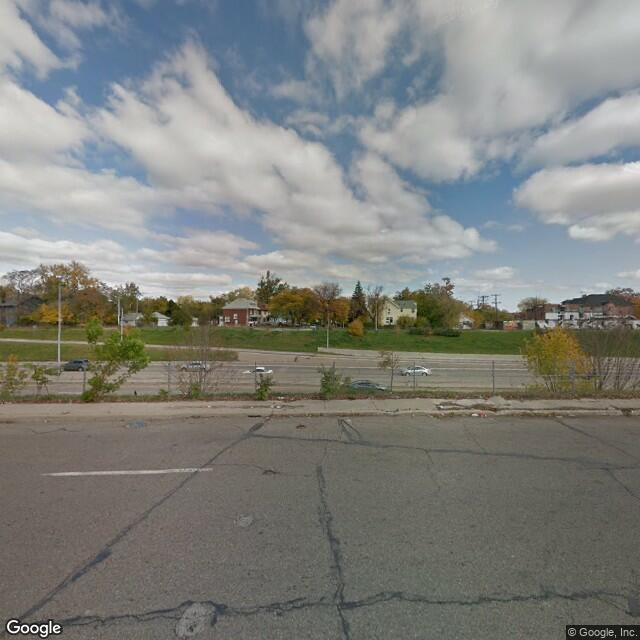litter: (267, 402, 282, 410), (438, 403, 445, 413), (472, 412, 485, 416), (206, 406, 210, 408)
